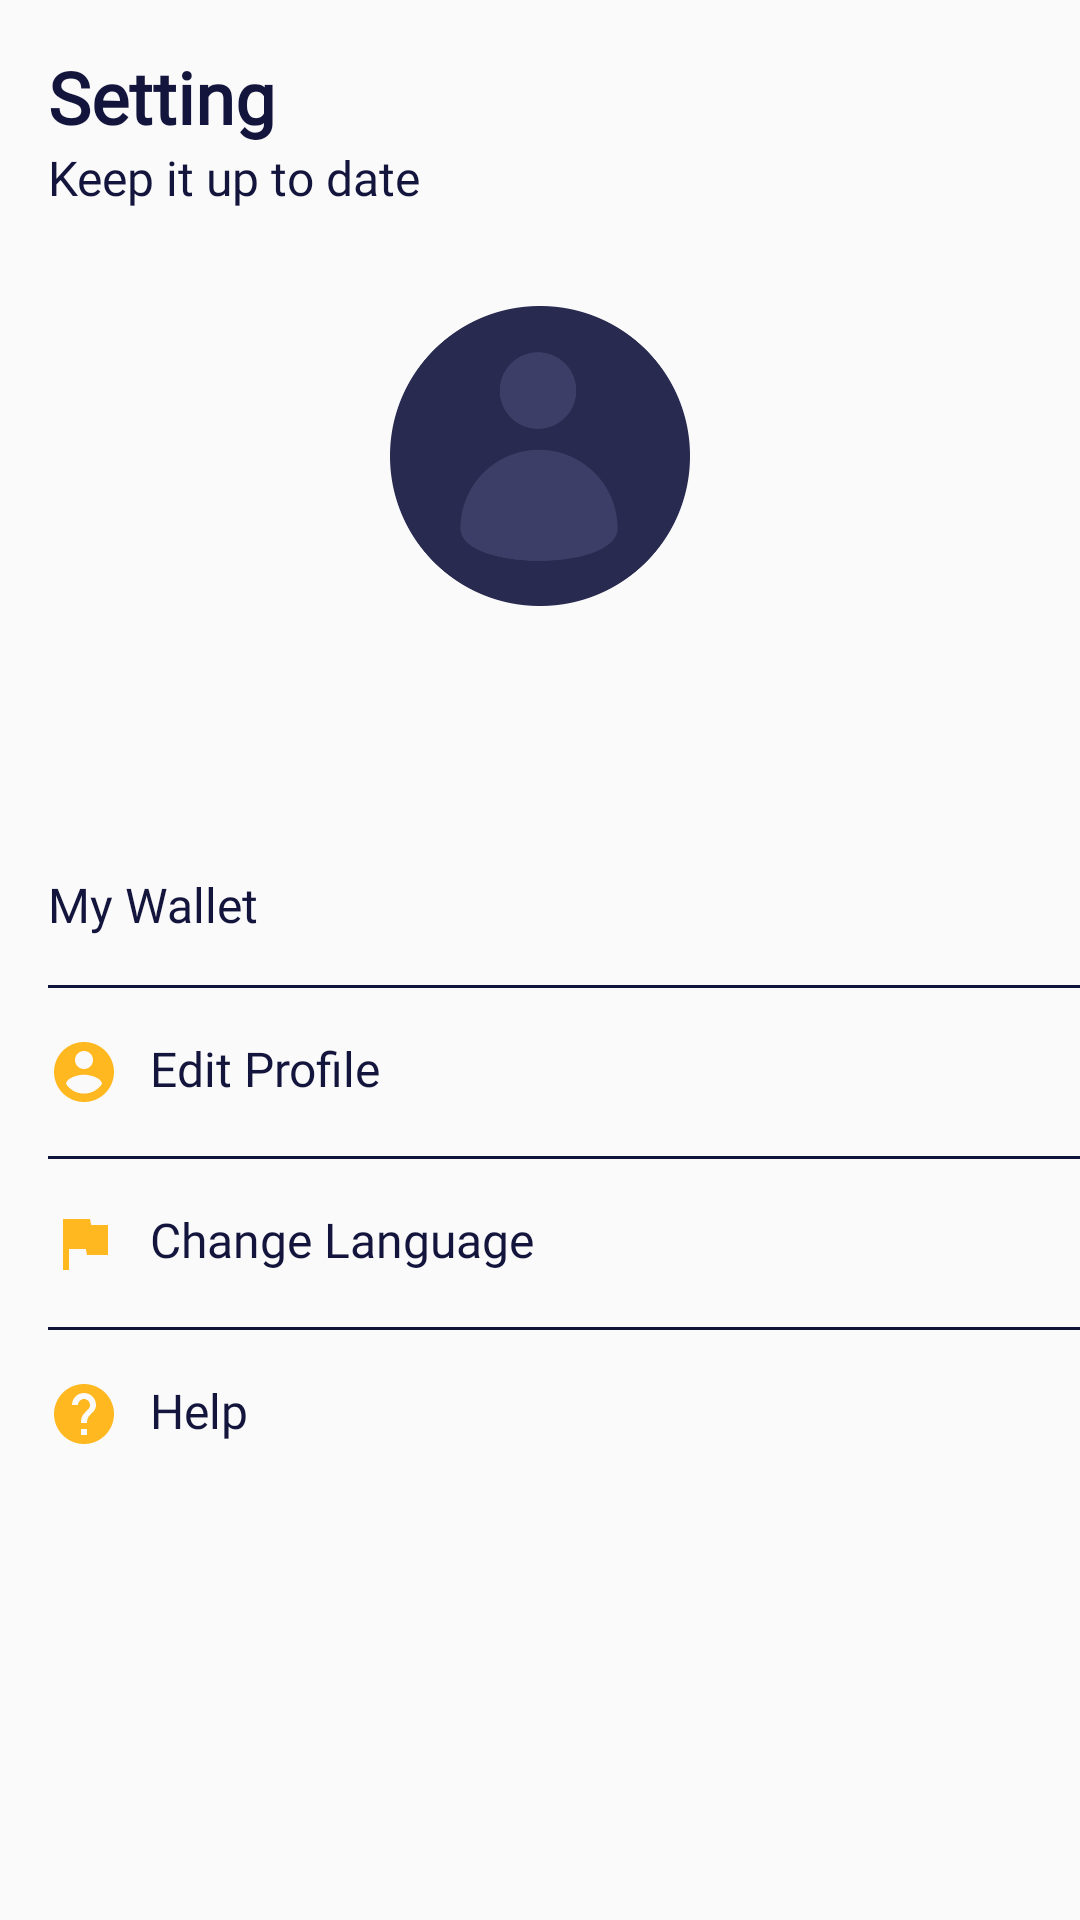

Icon click points for this 1080*1920 phone screenshot, format [x,y]:
user pic: [540,456]
